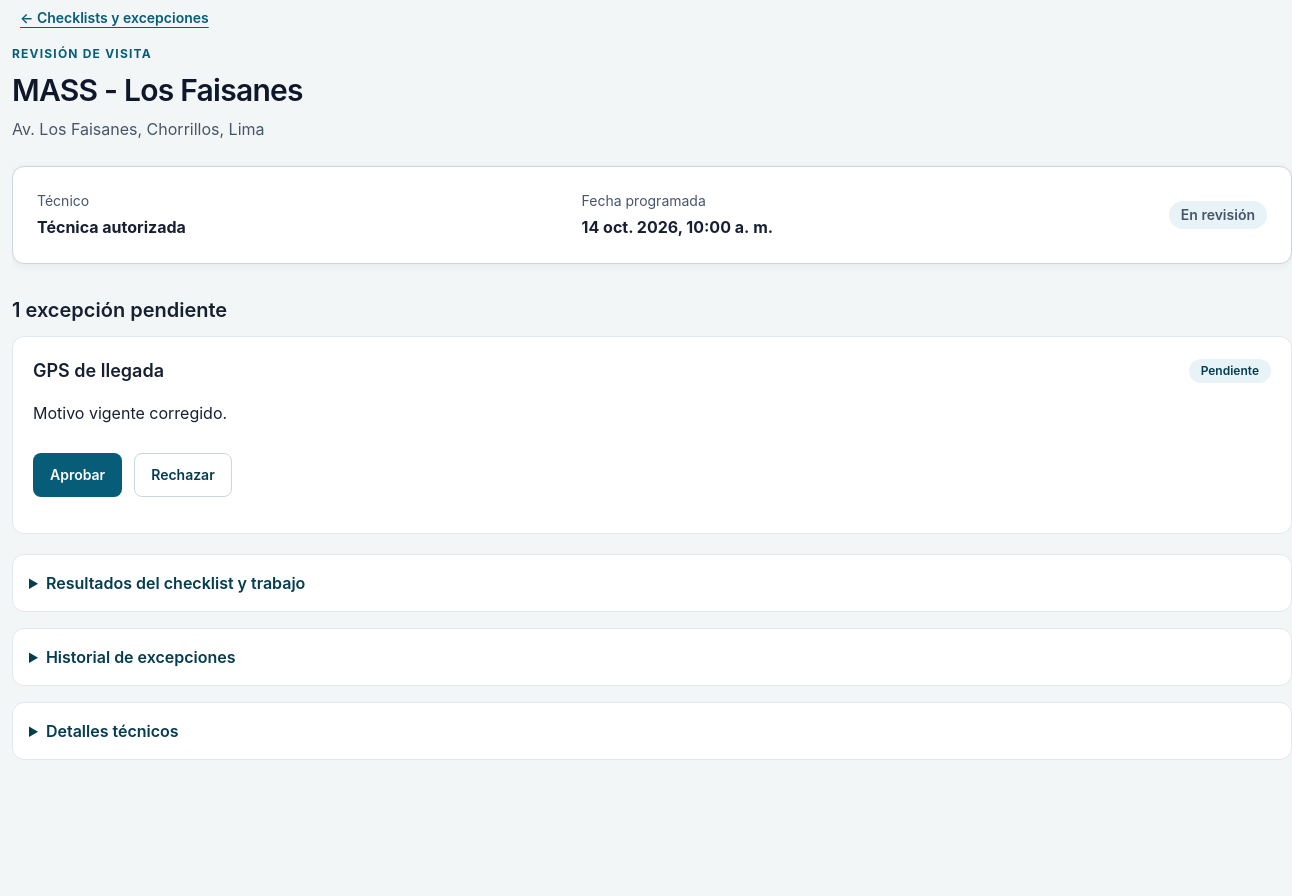
Test: mantiene un evento auténtico de corrección aunque su motivo vigente ya aparezca en el resumen
Expected: the text "Técnica autorizada" is shown, [37,215,186,239]
Click the heading "Historial de excepciones" at [141, 657], box [46,647,236,667]
(page scrolled)
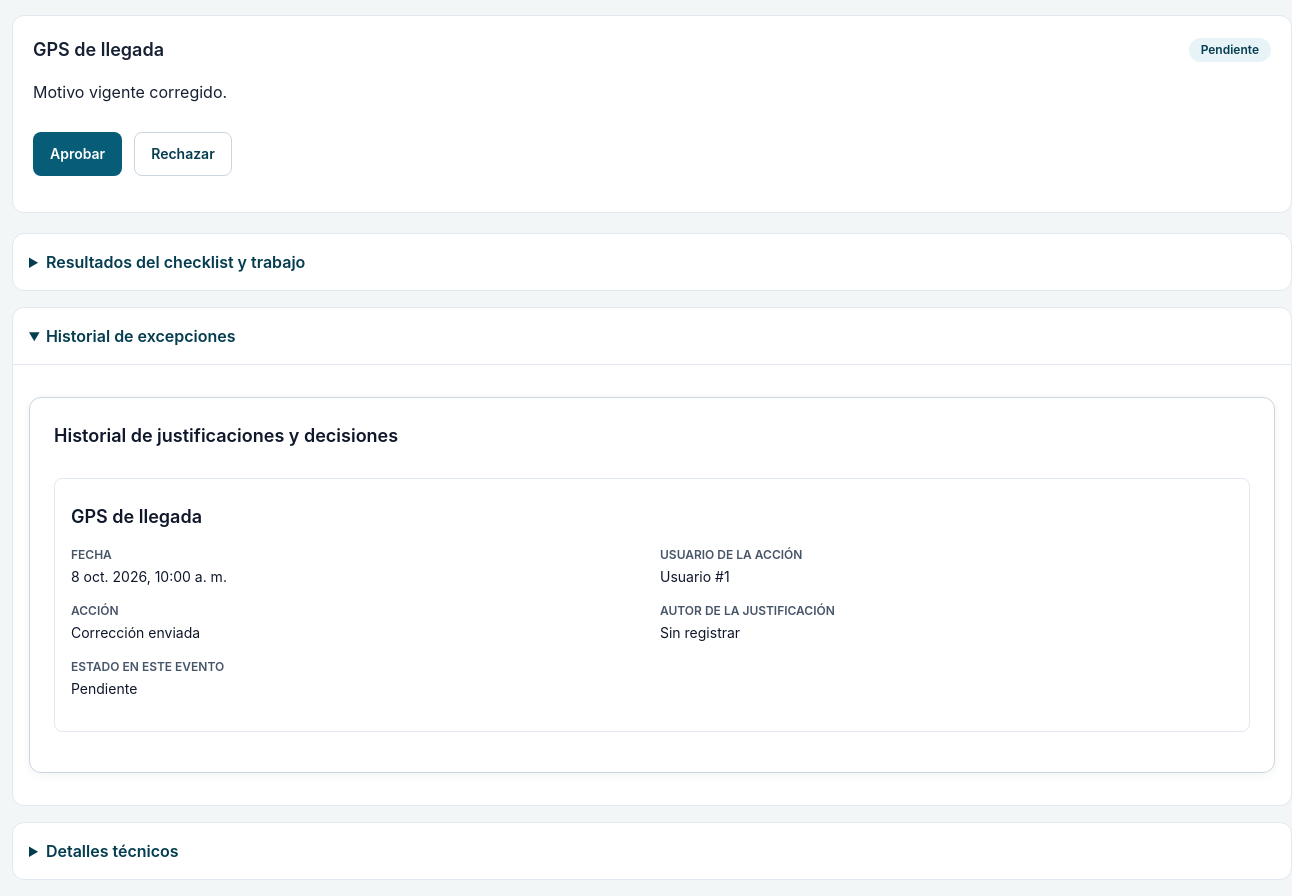
Expected: the text "Motivo vigente corregido." is shown once, [33,82,227,102]
Result: the text "Corrección enviada" is shown at [71,624,200,641]
Result: the number of list items is 1 at [54,478,1250,732]
